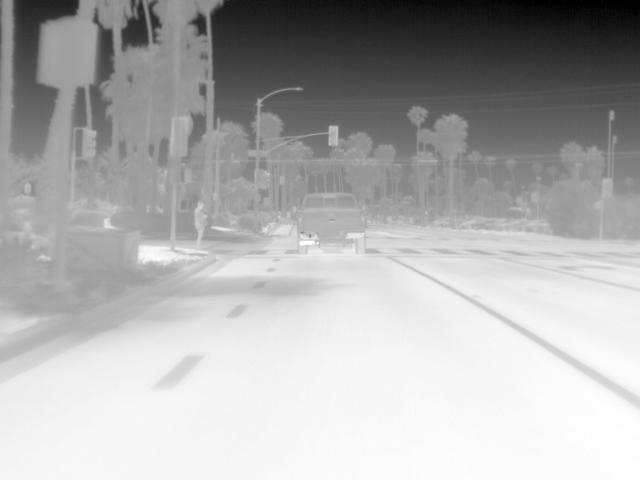car: (293, 190, 370, 255)
person: (191, 199, 208, 250)
